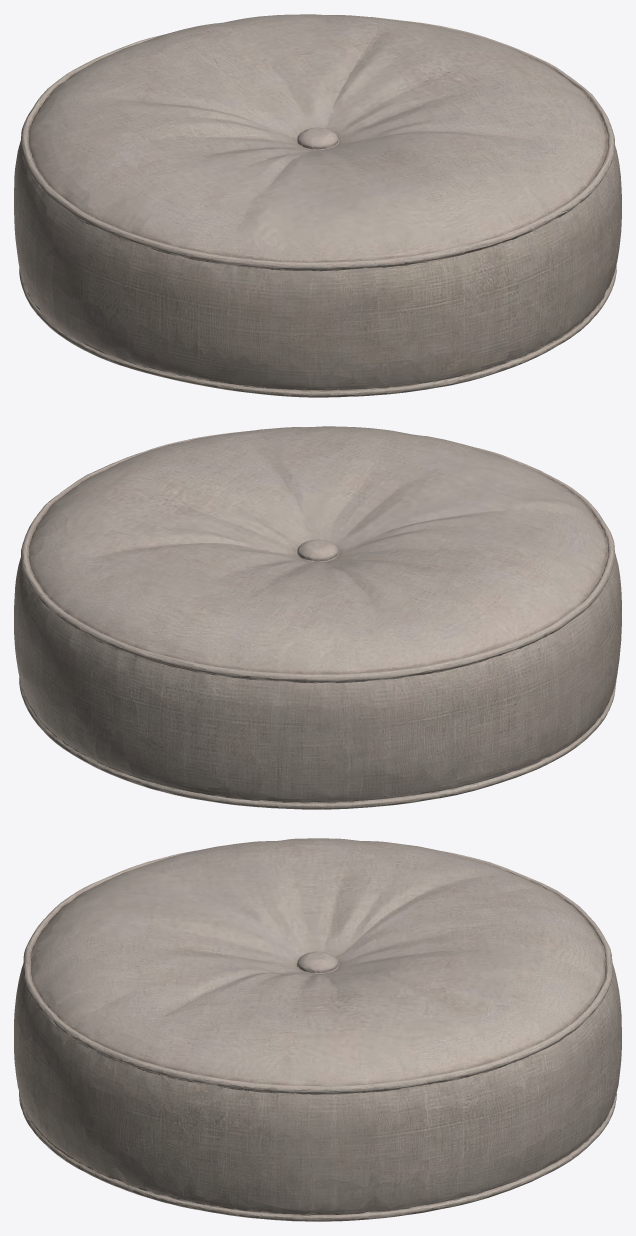
The picture shows the model from 3 angles, top to bottom: view 1: azimuth 30°, elevation 25°; view 2: azimuth 150°, elevation 25°; view 3: azimuth 270°, elevation 25°; orthographic projection.
Parts seen in each view (by area): view 1: Mesh_0; view 2: Mesh_0; view 3: Mesh_0.
Boxes of the visible parts, left/top/right/bottom form: Mesh_0: left=14, top=14, right=621, bottom=397; Mesh_0: left=14, top=426, right=621, bottom=809; Mesh_0: left=14, top=838, right=621, bottom=1221.
Size of the model in its own units: 0.7 by 0.22 by 0.7.
1 material, 1 textured.
